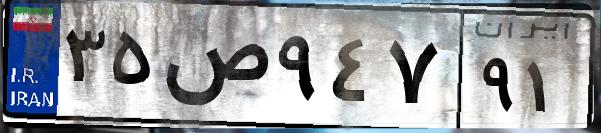1: (525, 38, 570, 115)
3: (57, 26, 110, 100)
4: (330, 28, 385, 110)
5: (110, 28, 158, 98)
7: (385, 28, 445, 110)
9: (270, 28, 330, 110), (475, 38, 525, 113)
ص: (158, 20, 270, 120)
